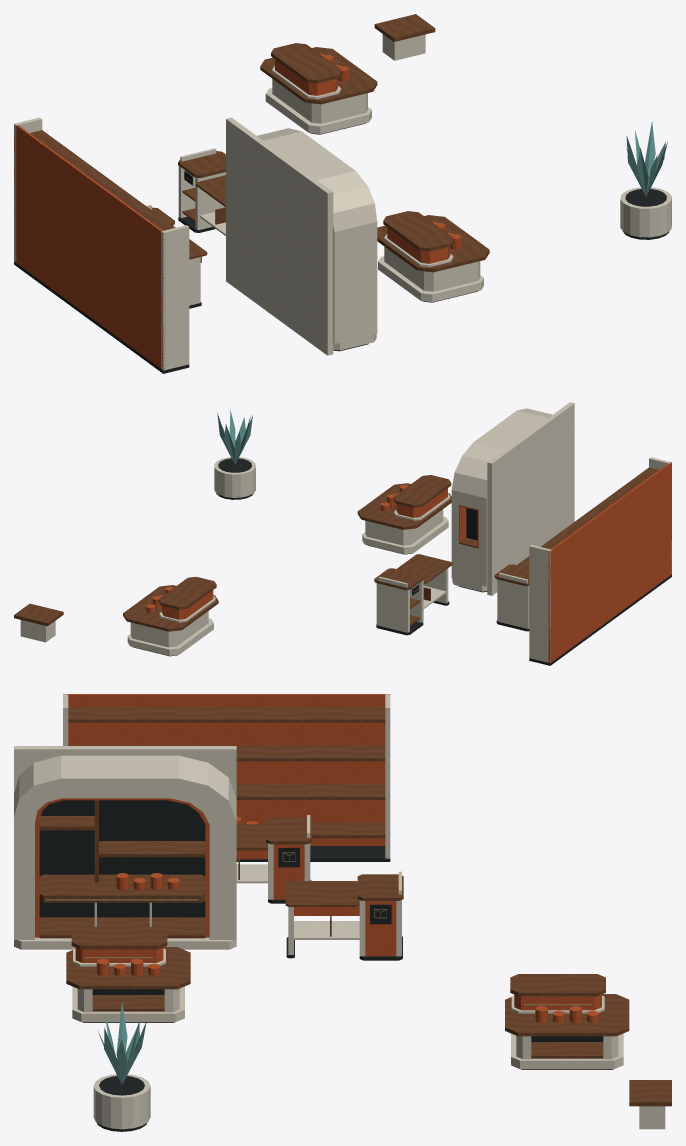
Rendered from SHOP_D09_P100_A106__fitout.glb.
3 views of the same model, one above another, from view 1: azimuth 30°, elevation 25°; view 2: azimuth 150°, elevation 25°; view 3: azimuth 270°, elevation 25° (orthographic). The views are drawn at different scales.
Parts seen in each view (by area): view 1: SHOP_D09_P100_A106__fitout__ivory_enamel, SHOP_D09_P100_A106__fitout__retail_terracotta_enamel, SHOP_D09_P100_A106__fitout__warm_walnut, SHOP_D09_P100_A106__fitout__dark_rubber, SHOP_D09_P100_A106__fitout__quiet_teal; view 2: SHOP_D09_P100_A106__fitout__ivory_enamel, SHOP_D09_P100_A106__fitout__retail_terracotta_enamel, SHOP_D09_P100_A106__fitout__warm_walnut, SHOP_D09_P100_A106__fitout__dark_rubber, SHOP_D09_P100_A106__fitout__quiet_teal; view 3: SHOP_D09_P100_A106__fitout__warm_walnut, SHOP_D09_P100_A106__fitout__ivory_enamel, SHOP_D09_P100_A106__fitout__retail_terracotta_enamel, SHOP_D09_P100_A106__fitout__dark_rubber, SHOP_D09_P100_A106__fitout__quiet_teal, SHOP_D09_P100_A106__fitout__champagne_metal.
Boxes of the visible parts, x1,y1,x2,y2 form: SHOP_D09_P100_A106__fitout__ivory_enamel: (14, 34, 671, 370); SHOP_D09_P100_A106__fitout__retail_terracotta_enamel: (14, 53, 461, 369); SHOP_D09_P100_A106__fitout__warm_walnut: (30, 14, 489, 272); SHOP_D09_P100_A106__fitout__dark_rubber: (14, 123, 669, 373); SHOP_D09_P100_A106__fitout__quiet_teal: (626, 121, 667, 196); SHOP_D09_P100_A106__fitout__ivory_enamel: (20, 402, 671, 663); SHOP_D09_P100_A106__fitout__retail_terracotta_enamel: (146, 462, 671, 662); SHOP_D09_P100_A106__fitout__warm_walnut: (14, 467, 658, 631); SHOP_D09_P100_A106__fitout__dark_rubber: (133, 458, 671, 665); SHOP_D09_P100_A106__fitout__quiet_teal: (217, 410, 252, 464); SHOP_D09_P100_A106__fitout__warm_walnut: (39, 707, 671, 1106); SHOP_D09_P100_A106__fitout__ivory_enamel: (14, 694, 665, 1129); SHOP_D09_P100_A106__fitout__retail_terracotta_enamel: (35, 694, 601, 1022); SHOP_D09_P100_A106__fitout__dark_rubber: (39, 800, 613, 1131); SHOP_D09_P100_A106__fitout__quiet_teal: (98, 1001, 146, 1084); SHOP_D09_P100_A106__fitout__champagne_metal: (46, 852, 591, 1005).
Bounding box in the file's own units: 10.28 × 3 × 10.05.
6 materials, 5 textured.
